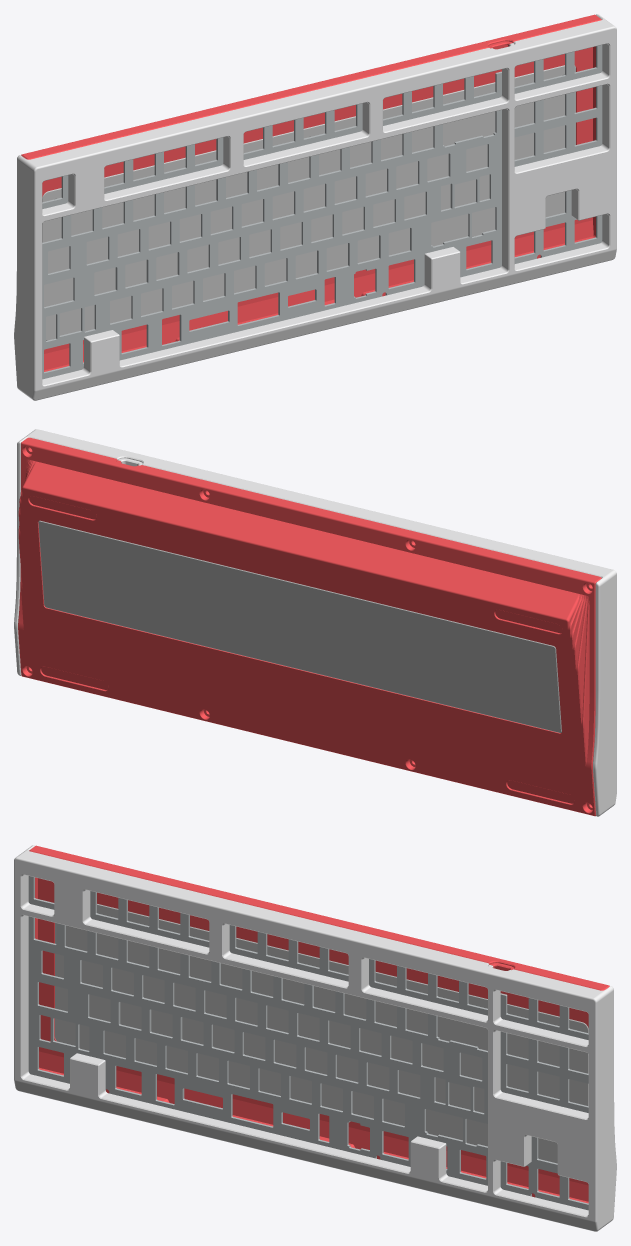
Rendered from leviathan-mode.fbx.
3 renders of one model, top to bottom at view 1: azimuth 30°, elevation 25°; view 2: azimuth 150°, elevation 25°; view 3: azimuth 330°, elevation 25°, orthographic.
Visible parts, largest first — view 1: WKL, Plate, Weight, Bottom; view 2: Bottom, Weight, WKL; view 3: WKL, Plate, Weight, Bottom.
Boxes of the visible parts, <box> form: WKL: <box>14,14,616,400</box>; Plate: <box>42,45,602,379</box>; Weight: <box>42,65,575,340</box>; Bottom: <box>21,14,601,371</box>; Bottom: <box>18,437,601,816</box>; Weight: <box>38,520,561,732</box>; WKL: <box>14,429,616,816</box>; WKL: <box>14,845,616,1231</box>; Plate: <box>28,876,588,1210</box>; Weight: <box>55,904,588,1163</box>; Bottom: <box>29,845,609,1203</box>.
Size of the model in its own units: 359 by 138 by 33.37.
